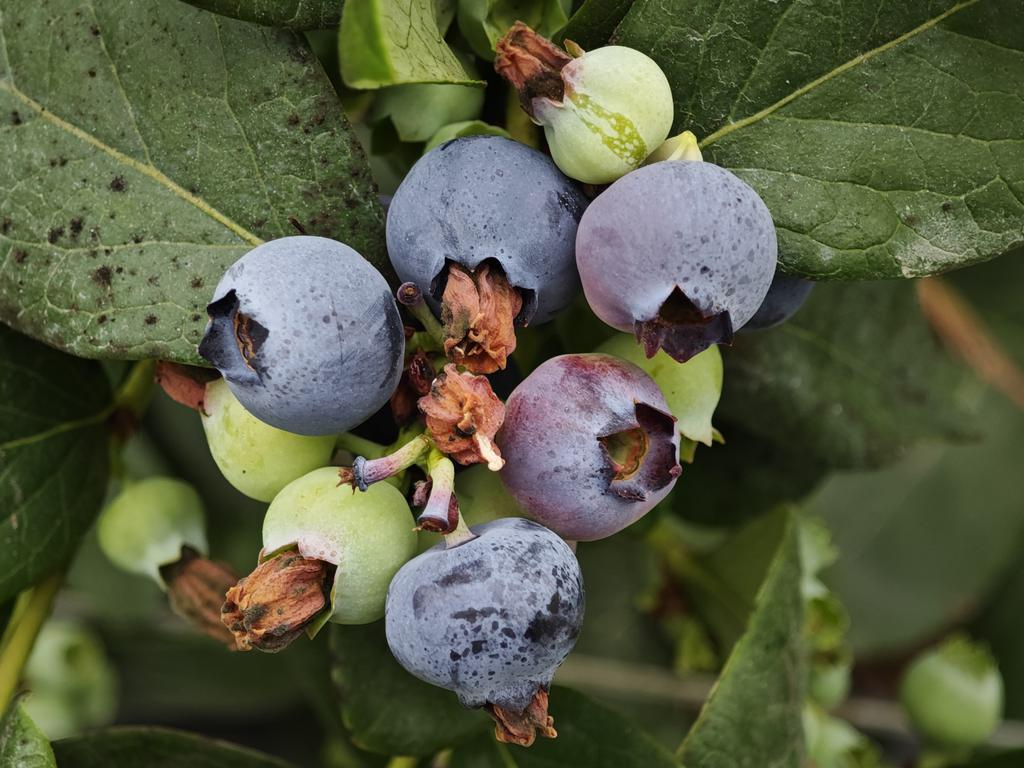RipeBlueBerry: (384, 524, 600, 713), (392, 131, 578, 340), (207, 230, 402, 428), (586, 150, 772, 338)
Semi-RipeBlueBerry: (499, 356, 687, 530)
